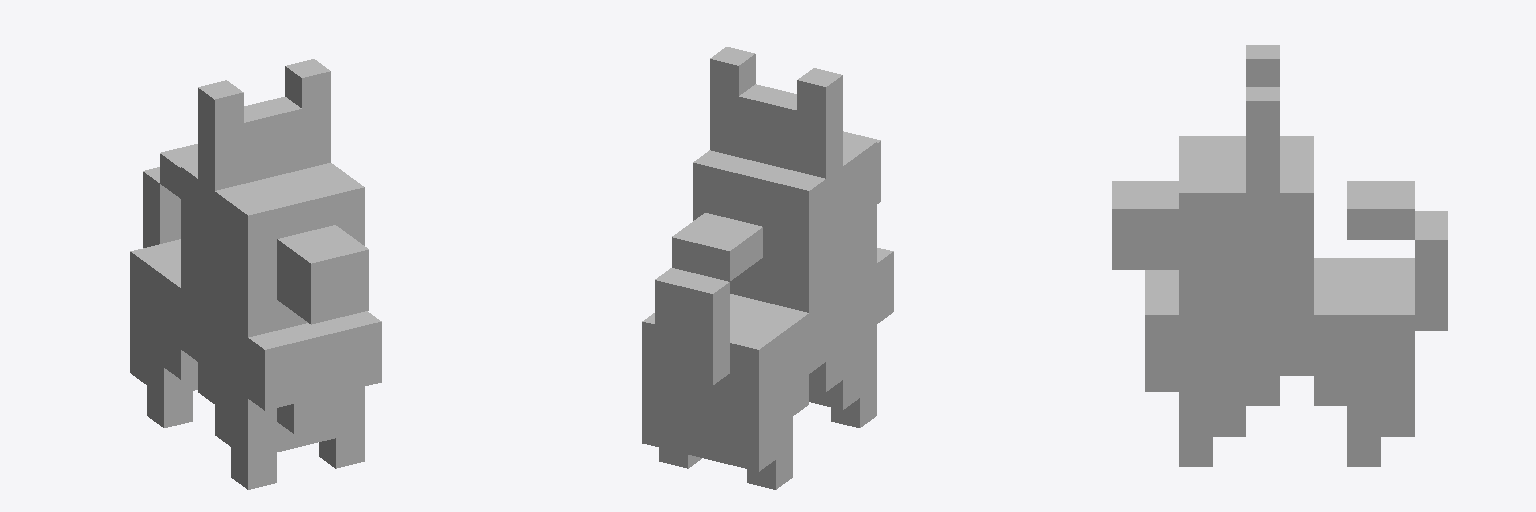
Rendered from dog.obj.
3 views of the same model, side by side, from view 1: azimuth 30°, elevation 25°; view 2: azimuth 150°, elevation 25°; view 3: azimuth 270°, elevation 25° (orthographic).
Parts seen in each view (by area): view 1: dog; view 2: dog; view 3: dog.
Boxes of the visible parts, x1=… form: dog: x1=130, y1=59, x2=381, y2=489; dog: x1=642, y1=47, x2=893, y2=489; dog: x1=1112, y1=45, x2=1447, y2=466.
Bounding box in the file's own units: 4 × 12 × 10.